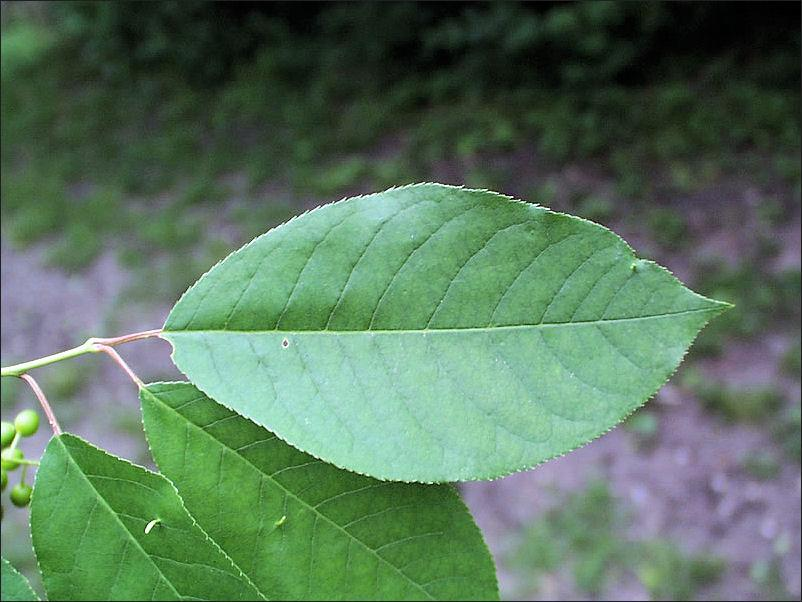Cherry leaf: (160, 175, 757, 488), (135, 379, 504, 600), (28, 429, 269, 602)
